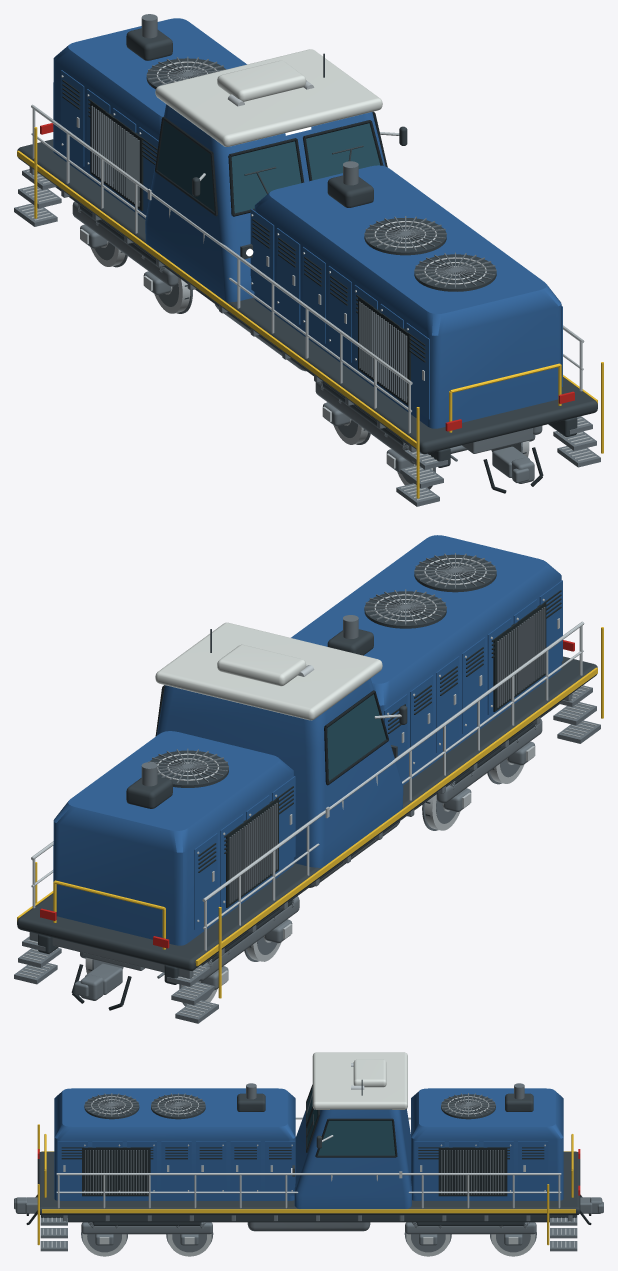
Rendered from diesel_industrial_4axle.glb.
3 renders of one model, top to bottom at view 1: azimuth 30°, elevation 25°; view 2: azimuth 150°, elevation 25°; view 3: azimuth 270°, elevation 25°, orthographic. The views are drawn at different scales.
Parts seen in each view (by area): view 1: engine_hood, hood_panels, walkway_deck, cab_shell, cab_roof, cab_glazing, roof_fans, walkway_handrails, access_steps, cab_details, exhaust, underframe (+5 smaller); view 2: engine_hood, hood_panels, cab_shell, walkway_deck, cab_roof, roof_fans, walkway_handrails, access_steps, cab_glazing, underframe, exhaust, cab_roof_services (+4 smaller); view 3: engine_hood, hood_panels, walkway_deck, cab_shell, cab_roof, underframe, walkway_handrails, roof_fans, cab_details, bogie_0_frame, bogie_1_frame, access_steps (+9 smaller).
Part boxes in pixels (box(x1,y1,x2,y2)): engine_hood: box(53, 18, 561, 428); hood_panels: box(61, 70, 562, 419); walkway_deck: box(17, 139, 597, 454); cab_shell: box(145, 104, 385, 302); cab_roof: box(155, 49, 382, 146); cab_glazing: box(155, 116, 304, 216); roof_fans: box(146, 56, 496, 291); walkway_handrails: box(31, 104, 584, 433); access_steps: box(14, 127, 603, 506); cab_details: box(147, 111, 407, 200); exhaust: box(126, 14, 373, 207); underframe: box(29, 167, 577, 467); engine_hood: box(53, 535, 561, 945); hood_panels: box(194, 580, 562, 929); cab_shell: box(156, 678, 403, 868); walkway_deck: box(17, 656, 597, 970); cab_roof: box(155, 622, 382, 720); roof_fans: box(148, 553, 496, 787); walkway_handrails: box(31, 621, 584, 950); access_steps: box(14, 627, 603, 1023); cab_glazing: box(324, 690, 388, 785); underframe: box(29, 693, 572, 984); exhaust: box(126, 615, 373, 808); cab_roof_services: box(210, 629, 314, 686); engine_hood: box(54, 1088, 563, 1200); hood_panels: box(58, 1141, 548, 1196); walkway_deck: box(37, 1151, 580, 1215); cab_shell: box(294, 1109, 411, 1209); cab_roof: box(312, 1052, 407, 1109); underframe: box(41, 1215, 576, 1222); walkway_handrails: box(44, 1117, 573, 1208); roof_fans: box(84, 1093, 495, 1119); cab_details: box(306, 1092, 402, 1178); bogie_0_frame: box(81, 1222, 212, 1245); bogie_1_frame: box(405, 1222, 536, 1245); access_steps: box(37, 1124, 577, 1251).
Size of the model in its own units: 3.71 by 4.47 by 13.32.
